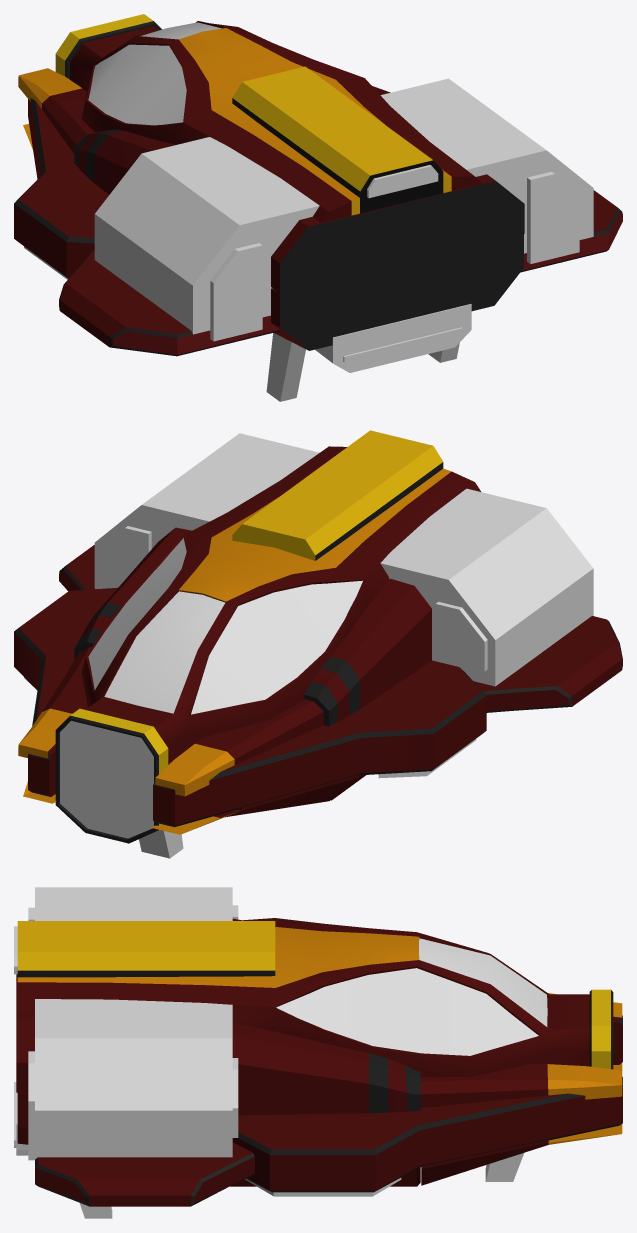
Rendered from ShipColored.fbx.
3 views of the same model, one above another, from view 1: azimuth 30°, elevation 25°; view 2: azimuth 150°, elevation 25°; view 3: azimuth 270°, elevation 25° (orthographic).
Parts seen in each view (by area): view 1: polySurface64, polySurface87, polySurface12, polySurface29, polySurface63, polySurface91, polySurface57, polySurface58, polySurface38, polySurface37, polySurface78, pCube12 (+10 smaller); view 2: polySurface87, polySurface64, polySurface63, polySurface12, polySurface78, polySurface93, polySurface29, polySurface85, pasted__polySurface86, polySurface50, polySurface91, polySurface90 (+8 smaller); view 3: polySurface29, polySurface87, polySurface90, polySurface12, polySurface51, polySurface65, polySurface92, pasted__polySurface85, polySurface64, polySurface50, polySurface88, polySurface38 (+6 smaller).
Boxes of the visible parts, left/top/right/bottom form: polySurface64: left=94, top=137, right=319, bottom=334; polySurface87: left=70, top=21, right=481, bottom=222; polySurface12: left=232, top=66, right=443, bottom=213; polySurface29: left=380, top=78, right=593, bottom=253; polySurface63: left=14, top=98, right=108, bottom=278; polySurface91: left=59, top=250, right=280, bottom=356; polySurface57: left=271, top=203, right=402, bottom=293; polySurface58: left=271, top=264, right=401, bottom=350; polySurface38: left=402, top=174, right=524, bottom=263; polySurface37: left=402, top=234, right=523, bottom=320; polySurface78: left=88, top=44, right=186, bottom=125; pCube12: left=210, top=243, right=262, bottom=341; polySurface87: left=81, top=446, right=480, bottom=764; polySurface64: left=380, top=488, right=593, bottom=686; polySurface63: left=153, top=660, right=486, bottom=827; polySurface12: left=232, top=430, right=443, bottom=560; polySurface78: left=191, top=580, right=362, bottom=714; polySurface93: left=304, top=578, right=431, bottom=726; polySurface29: left=94, top=433, right=319, bottom=588; polySurface85: left=60, top=720, right=153, bottom=838; pasted__polySurface86: left=151, top=699, right=358, bottom=834; polySurface50: left=104, top=591, right=224, bottom=713; polySurface91: left=474, top=616, right=622, bottom=712; polySurface90: left=14, top=587, right=117, bottom=796; polySurface29: left=35, top=999, right=232, bottom=1159; polySurface87: left=17, top=918, right=589, bottom=1077; polySurface90: left=230, top=1077, right=622, bottom=1192; polySurface12: left=17, top=921, right=275, bottom=977; polySurface51: left=276, top=968, right=538, bottom=1055; polySurface65: left=232, top=1023, right=420, bottom=1115; polySurface92: left=35, top=1142, right=254, bottom=1206; pasted__polySurface85: left=420, top=1063, right=622, bottom=1185; polySurface64: left=35, top=887, right=232, bottom=920; polySurface50: left=419, top=938, right=547, bottom=1026; polySurface88: left=589, top=989, right=613, bottom=1069; polySurface38: left=16, top=974, right=34, bottom=1092.
Bounding box in the file's own units: 41.25 × 18.23 × 42.15.
